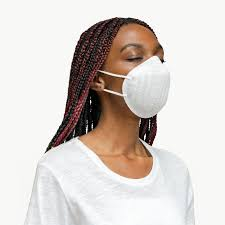with-mask: (83, 21, 174, 127)
